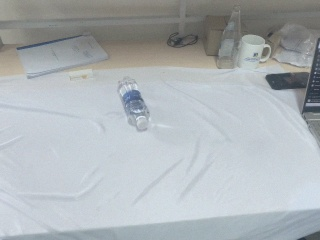bottle: (117, 77, 150, 132), (216, 5, 242, 70)
cup: (236, 34, 272, 70)
phone: (265, 72, 310, 90)
